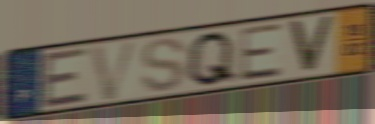E: (40, 44, 90, 111), (236, 21, 285, 84)
Q: (184, 29, 239, 89)
S: (139, 36, 189, 94)
V: (88, 37, 142, 104), (286, 14, 336, 74)
